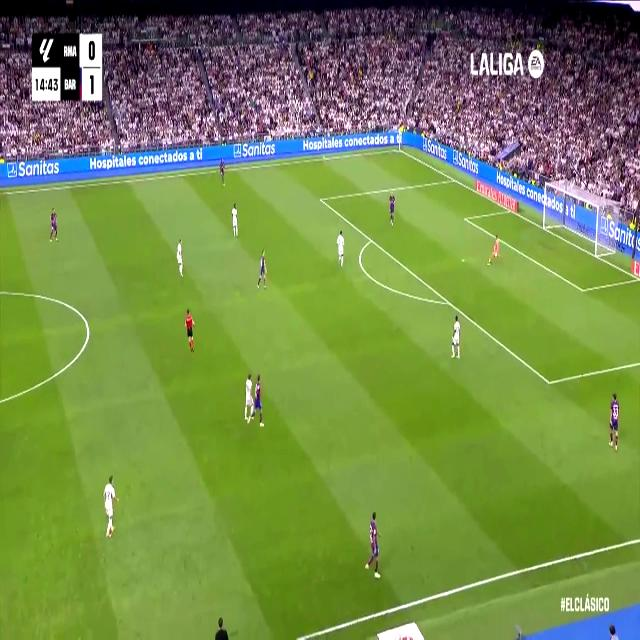bigarea_bottom_inner: (544, 370, 554, 394)
bigarea_top_inner: (318, 192, 324, 206)
bigarea_top_outter: (450, 172, 458, 185)
bottom_arc_area_intersection: (444, 294, 452, 310)
corner: (395, 144, 403, 154)
smallarea_bottom_inner: (578, 281, 587, 299)
smallarea_top_inner: (462, 212, 468, 224)
top_arc_area_intersection: (368, 232, 374, 246)
